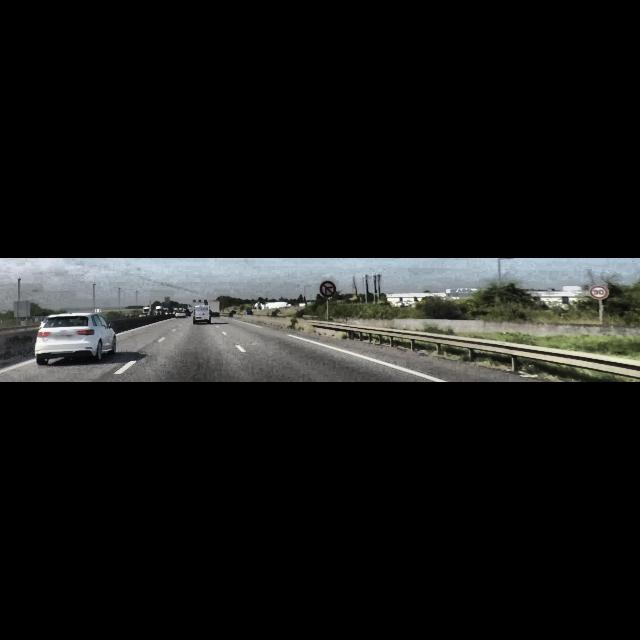speed_90: (590, 286, 608, 298)
